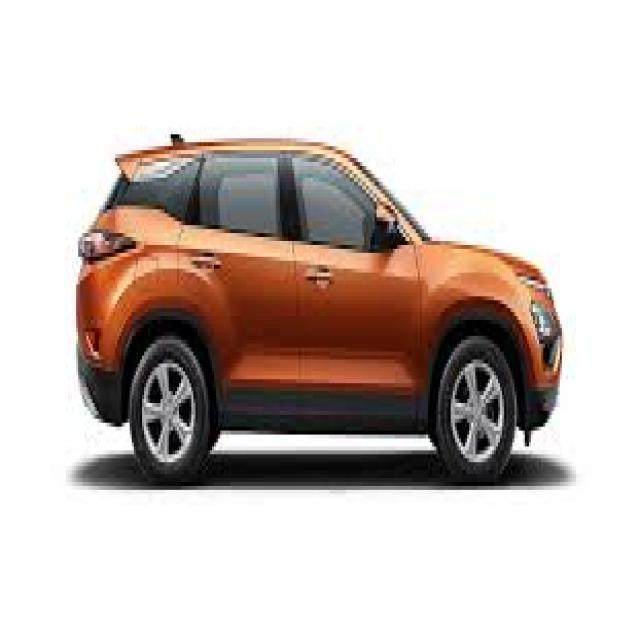SUV: (67, 126, 568, 479)
